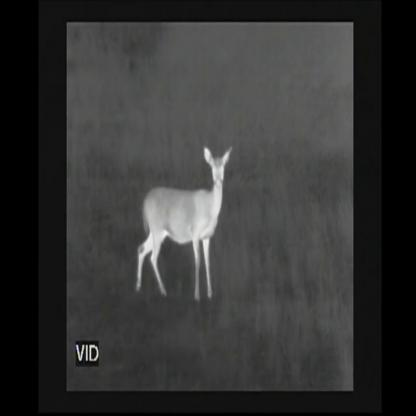rehkitze: (134, 142, 233, 304)
